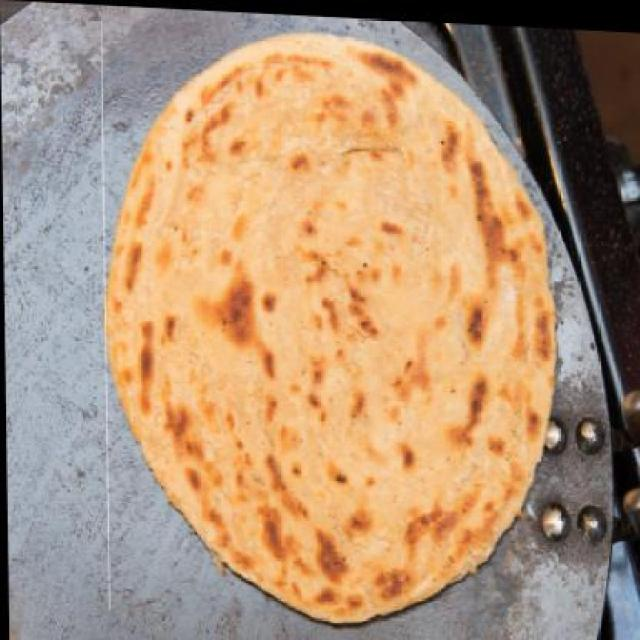chapati: (100, 19, 558, 628)
